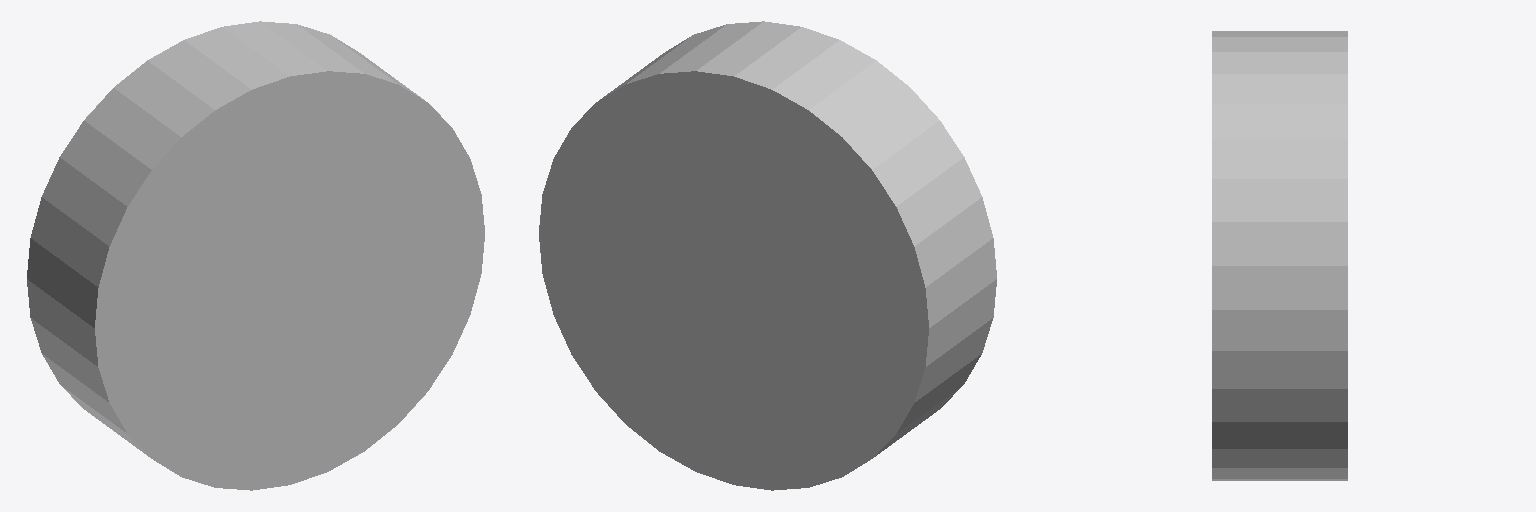
The model's file is coins.obj.
The picture shows the model from 3 angles: view 1: azimuth 30°, elevation 25°; view 2: azimuth 150°, elevation 25°; view 3: azimuth 270°, elevation 25°; orthographic projection.
Parts seen in each view (by area): view 1: Cylinder; view 2: Cylinder; view 3: Cylinder.
Part boxes in pixels (left/top/right/bottom): Cylinder: left=27, top=21, right=484, bottom=490; Cylinder: left=539, top=21, right=996, bottom=490; Cylinder: left=1212, top=31, right=1347, bottom=480.
Size of the model in its own units: 2 by 2 by 0.6033.